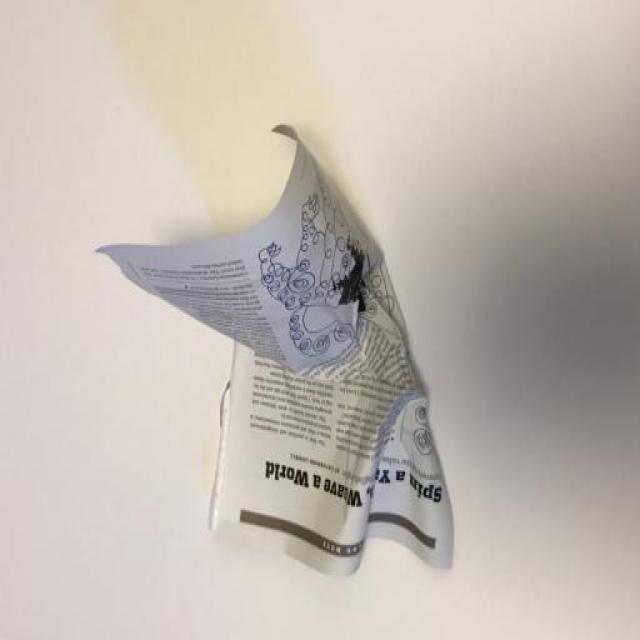paper: (97, 99, 499, 640)
